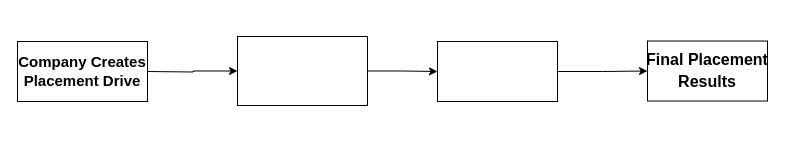
This 786x141 diagram has some shape labels left out. The shapes that lost their labels are listed below. From the top down, each one's box as (x1, y1, x2, y2) in pixels, then its label:
(236, 36, 368, 106): Students Register
(436, 40, 558, 102): Exams Conducted
